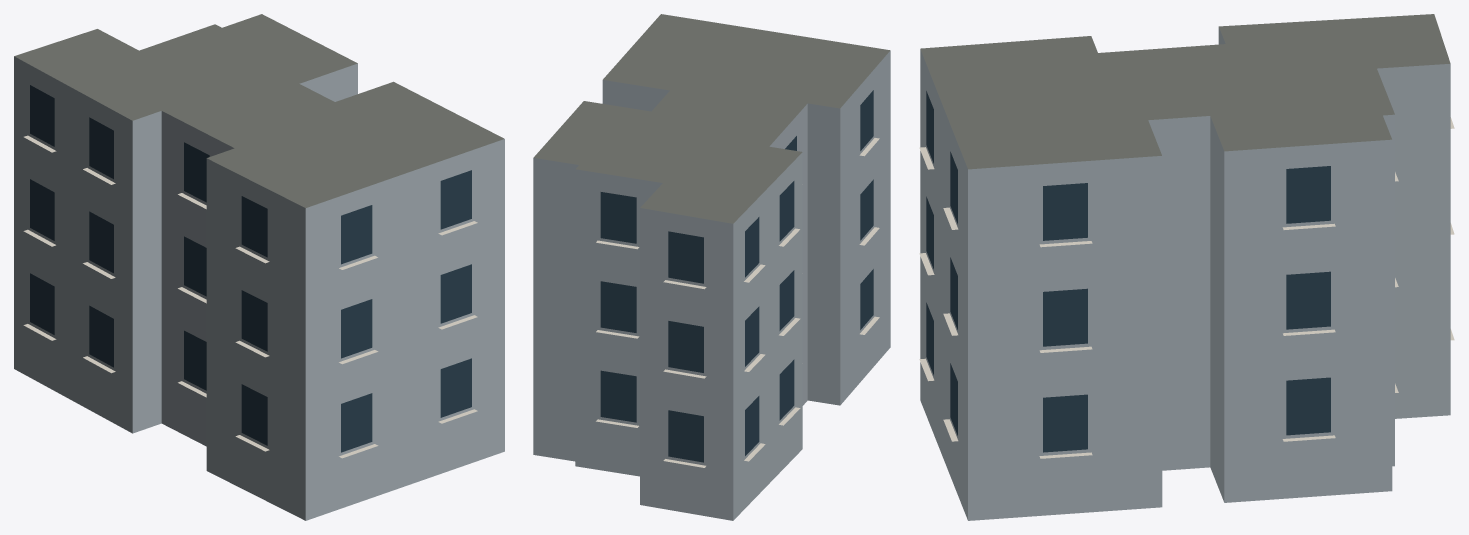
3 views of the same model, side by side, from view 1: azimuth 30°, elevation 25°; view 2: azimuth 150°, elevation 25°; view 3: azimuth 270°, elevation 25° (orthographic). The views are drawn at different scales.
Visible parts, largest first — view 1: Footprint 0, Inferred window bays, Window sills; view 2: Footprint 0, Inferred window bays, Window sills; view 3: Footprint 0, Inferred window bays, Window sills.
Boxes of the visible parts, x1,y1,x2,y2 form: Footprint 0: (14,14,504,520); Inferred window bays: (30,85,471,452); Window sills: (23,135,477,458); Footprint 0: (533,14,890,520); Inferred window bays: (600,90,873,462); Window sills: (596,138,879,467); Footprint 0: (920,14,1450,520); Inferred window bays: (926,91,1330,452); Window sills: (919,117,1454,458).
Size of the model in its own units: 10.16 by 10.58 by 14.6.
